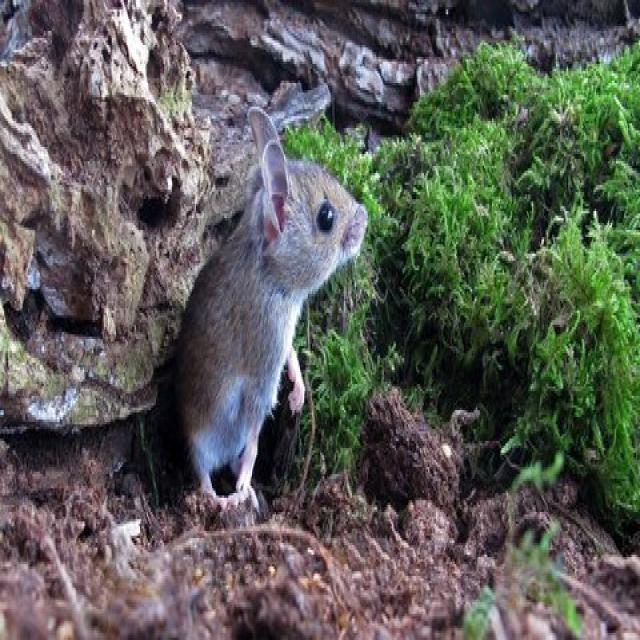Mouse: (157, 107, 370, 499)
